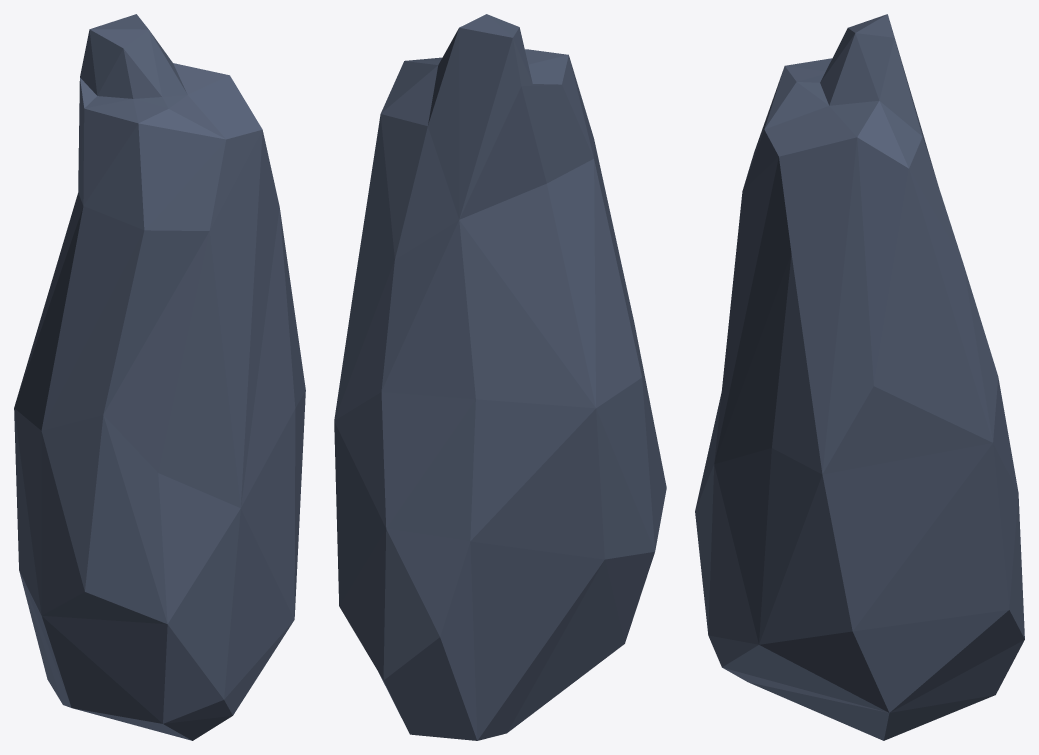
File: rock1_col.FBX
3 views of the same model, side by side, from view 1: azimuth 30°, elevation 25°; view 2: azimuth 150°, elevation 25°; view 3: azimuth 270°, elevation 25° (orthographic). The views are drawn at different scales.
Visible parts, largest first — view 1: rock1_col; view 2: rock1_col; view 3: rock1_col.
Boxes of the visible parts, x1=… form: rock1_col: x1=14, y1=14, x2=305, y2=740; rock1_col: x1=334, y1=14, x2=666, y2=740; rock1_col: x1=695, y1=14, x2=1024, y2=740.
Bounding box in the file's own units: 167 × 400 × 175.
